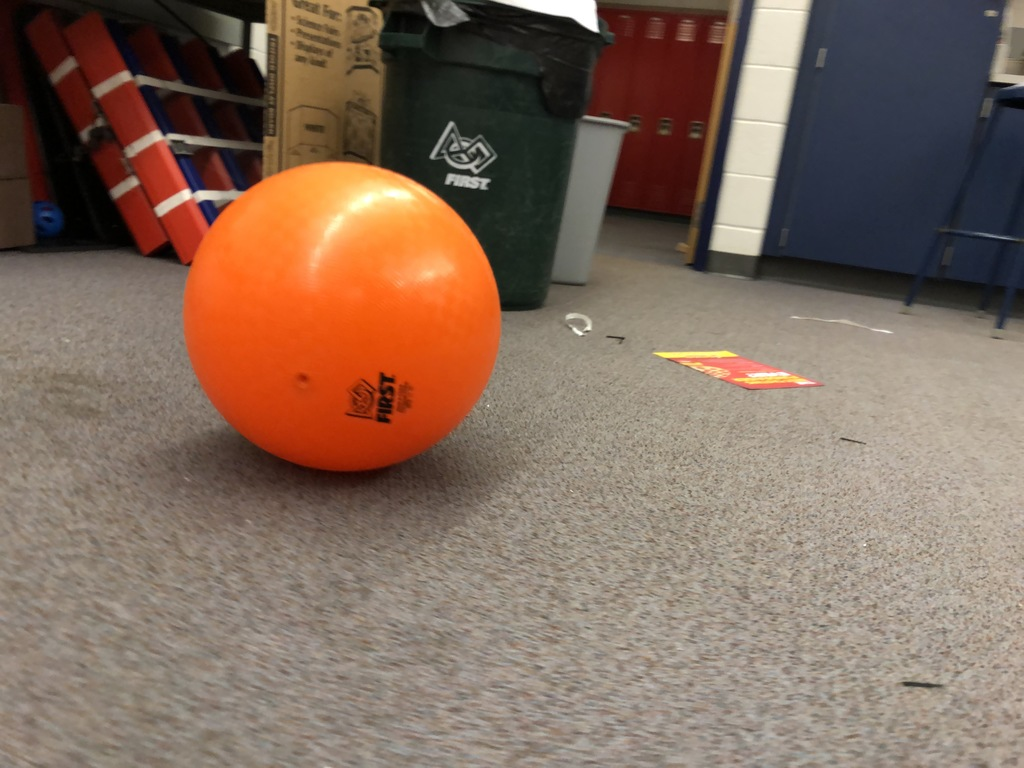cargo: (178, 154, 518, 487)
